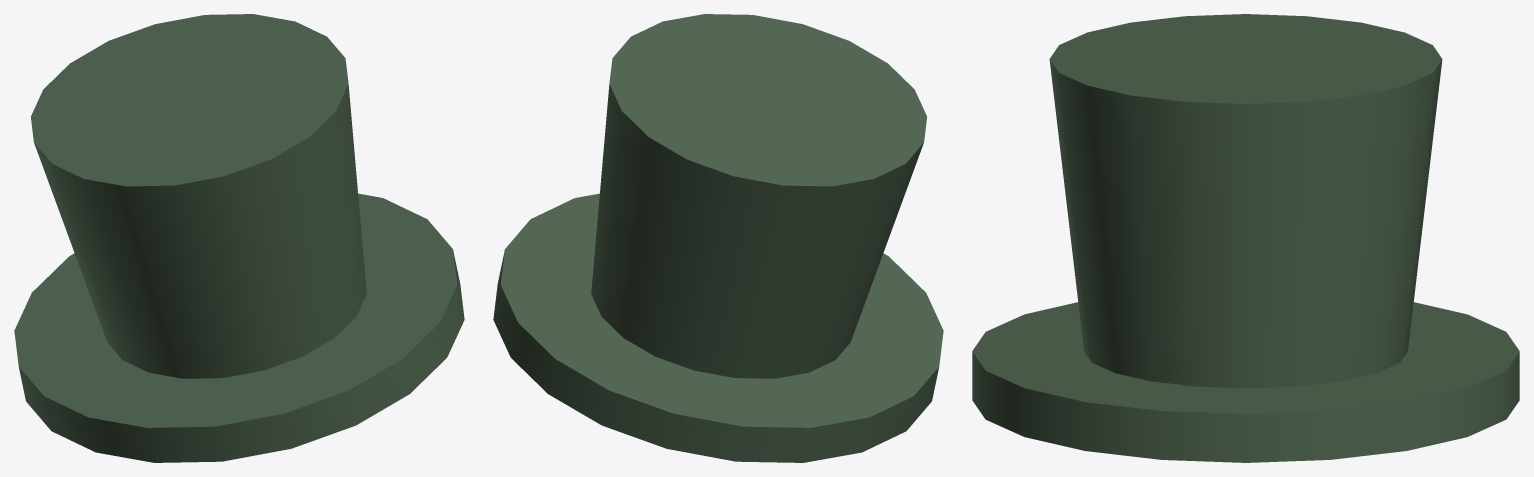
The model's file is duck (top) hat tester.fbx.
3 views of the same model, side by side, from view 1: azimuth 30°, elevation 25°; view 2: azimuth 150°, elevation 25°; view 3: azimuth 270°, elevation 25° (orthographic). The views are drawn at different scales.
Visible parts, largest first — view 1: polySurface337; view 2: polySurface337; view 3: polySurface337.
Boxes of the visible parts, bbox=[...] form: polySurface337: bbox=[14, 14, 464, 462]; polySurface337: bbox=[493, 14, 943, 462]; polySurface337: bbox=[972, 14, 1519, 462].
Size of the model in its own units: 1.64 by 1.31 by 1.64.
